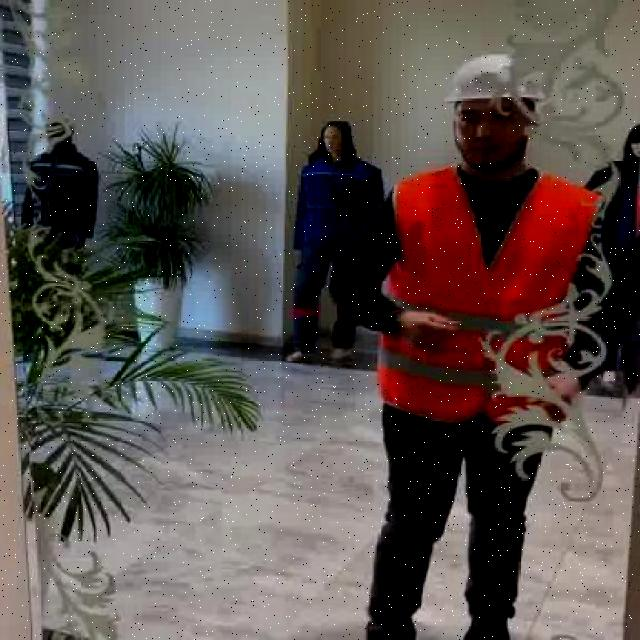Helmet: (440, 50, 551, 104)
Mask: (374, 163, 606, 426), (289, 156, 386, 356), (580, 158, 640, 377), (20, 138, 105, 257)
